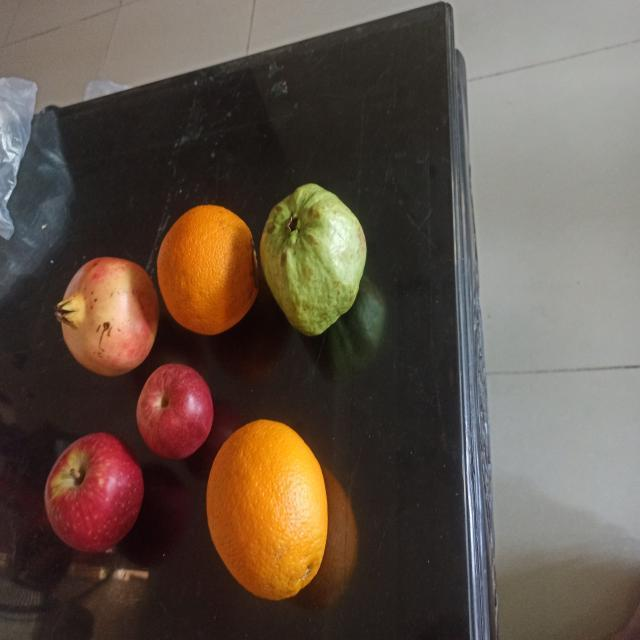apple: (44, 431, 144, 553), (136, 362, 214, 460)
